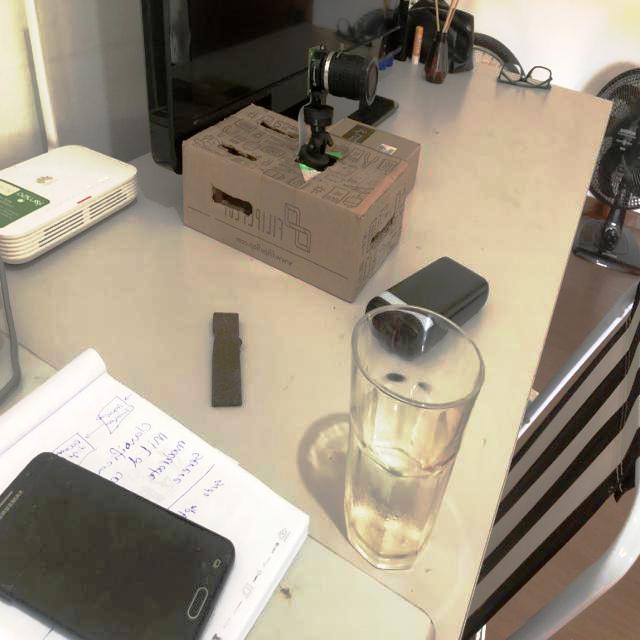Corrosion: (212, 312, 243, 408)
